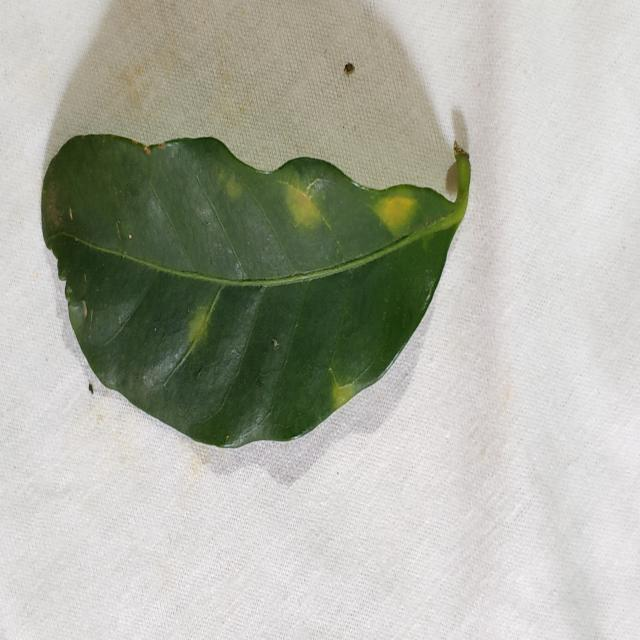Enfermedad-Roya: (40, 135, 471, 449)
